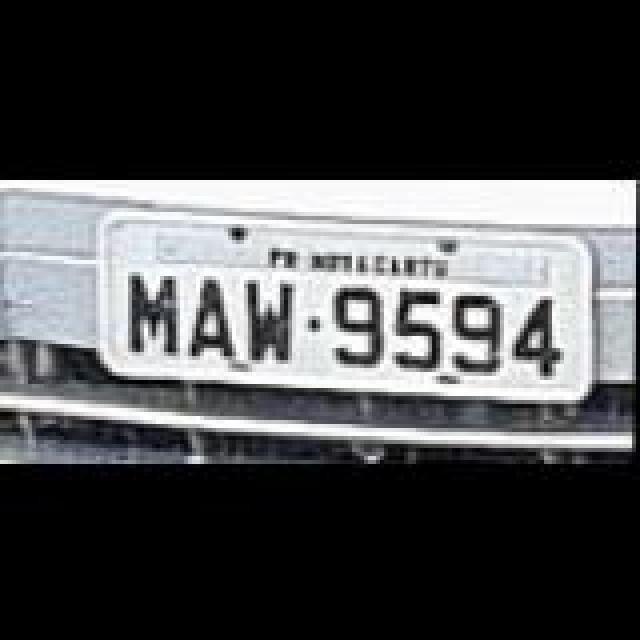4: (514, 294, 566, 378)
5: (396, 286, 452, 370)
9: (334, 282, 386, 366), (454, 290, 506, 374)
A: (188, 274, 236, 358)
M: (130, 270, 182, 354)
W: (248, 278, 296, 362)
